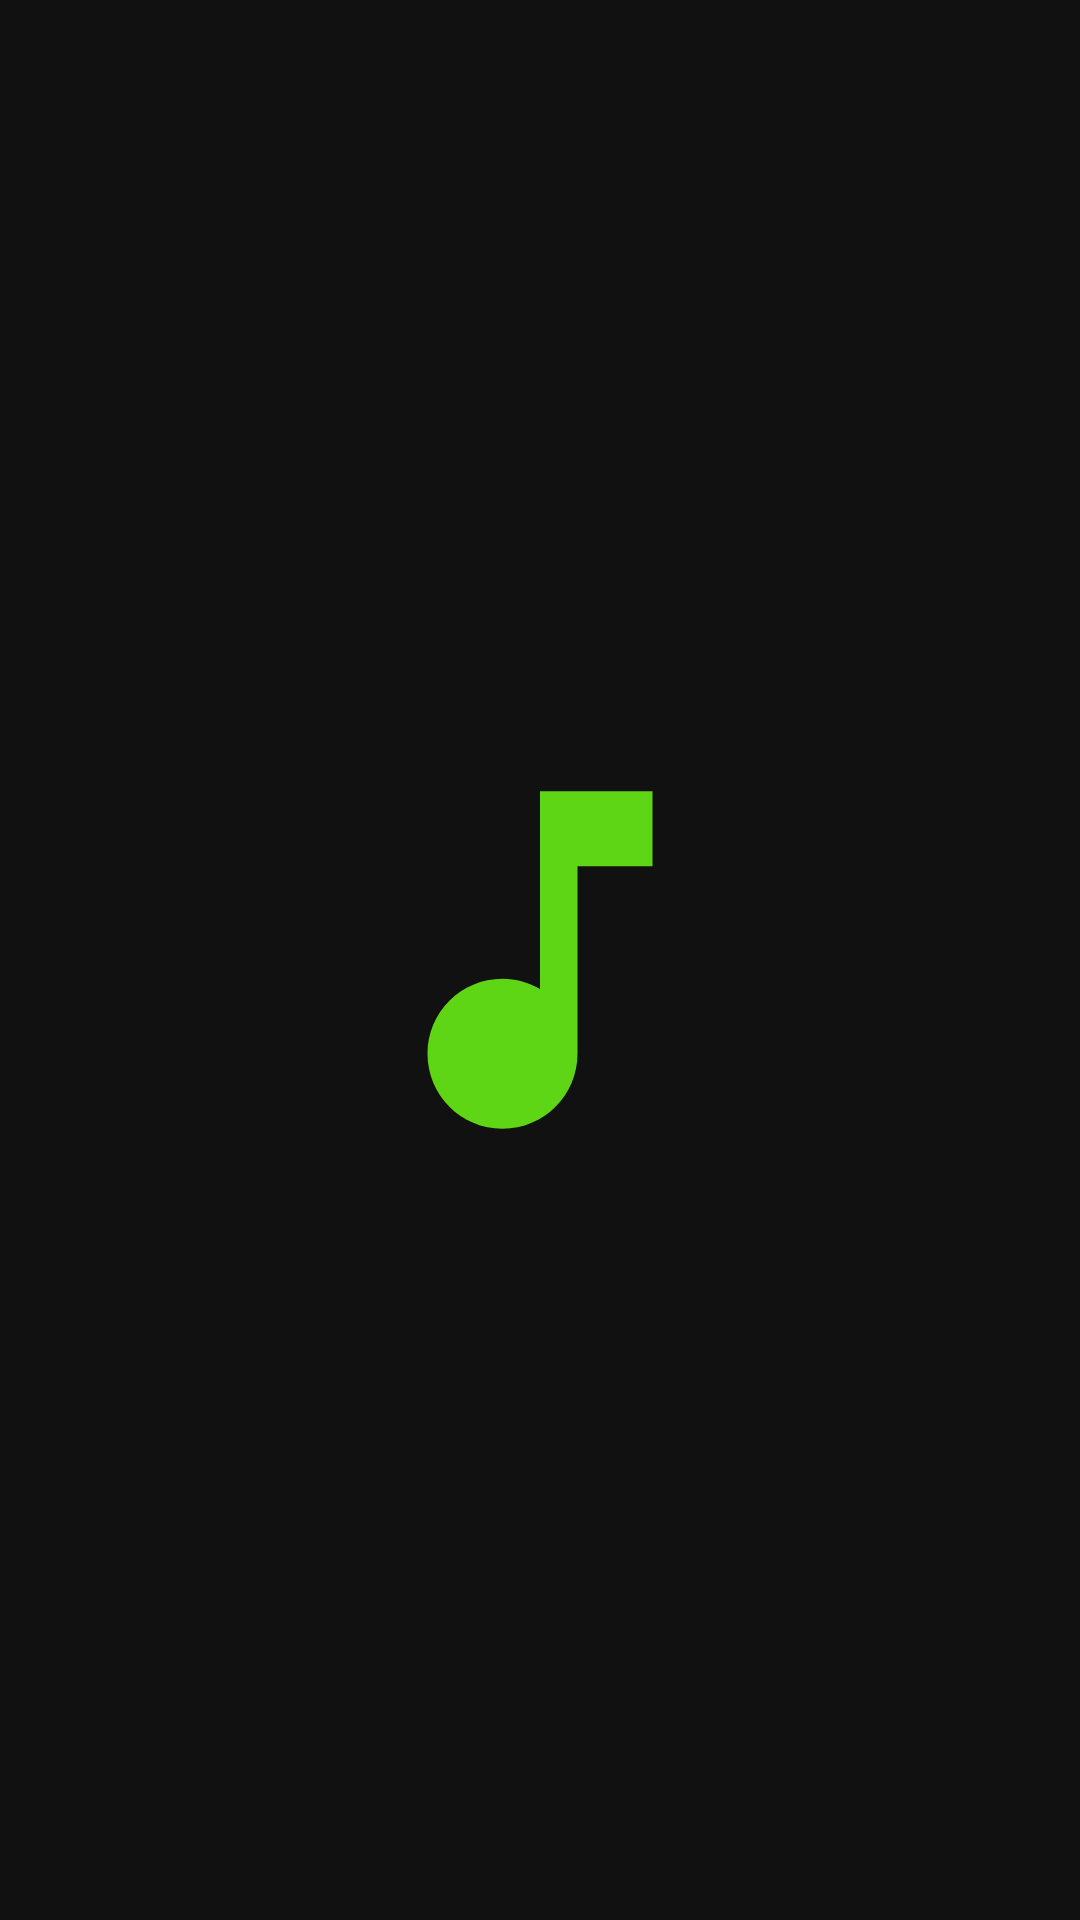

Screen size 1080px×1920px. Icon name, then its center in pixels as (x,y):
music note: (540,960)
